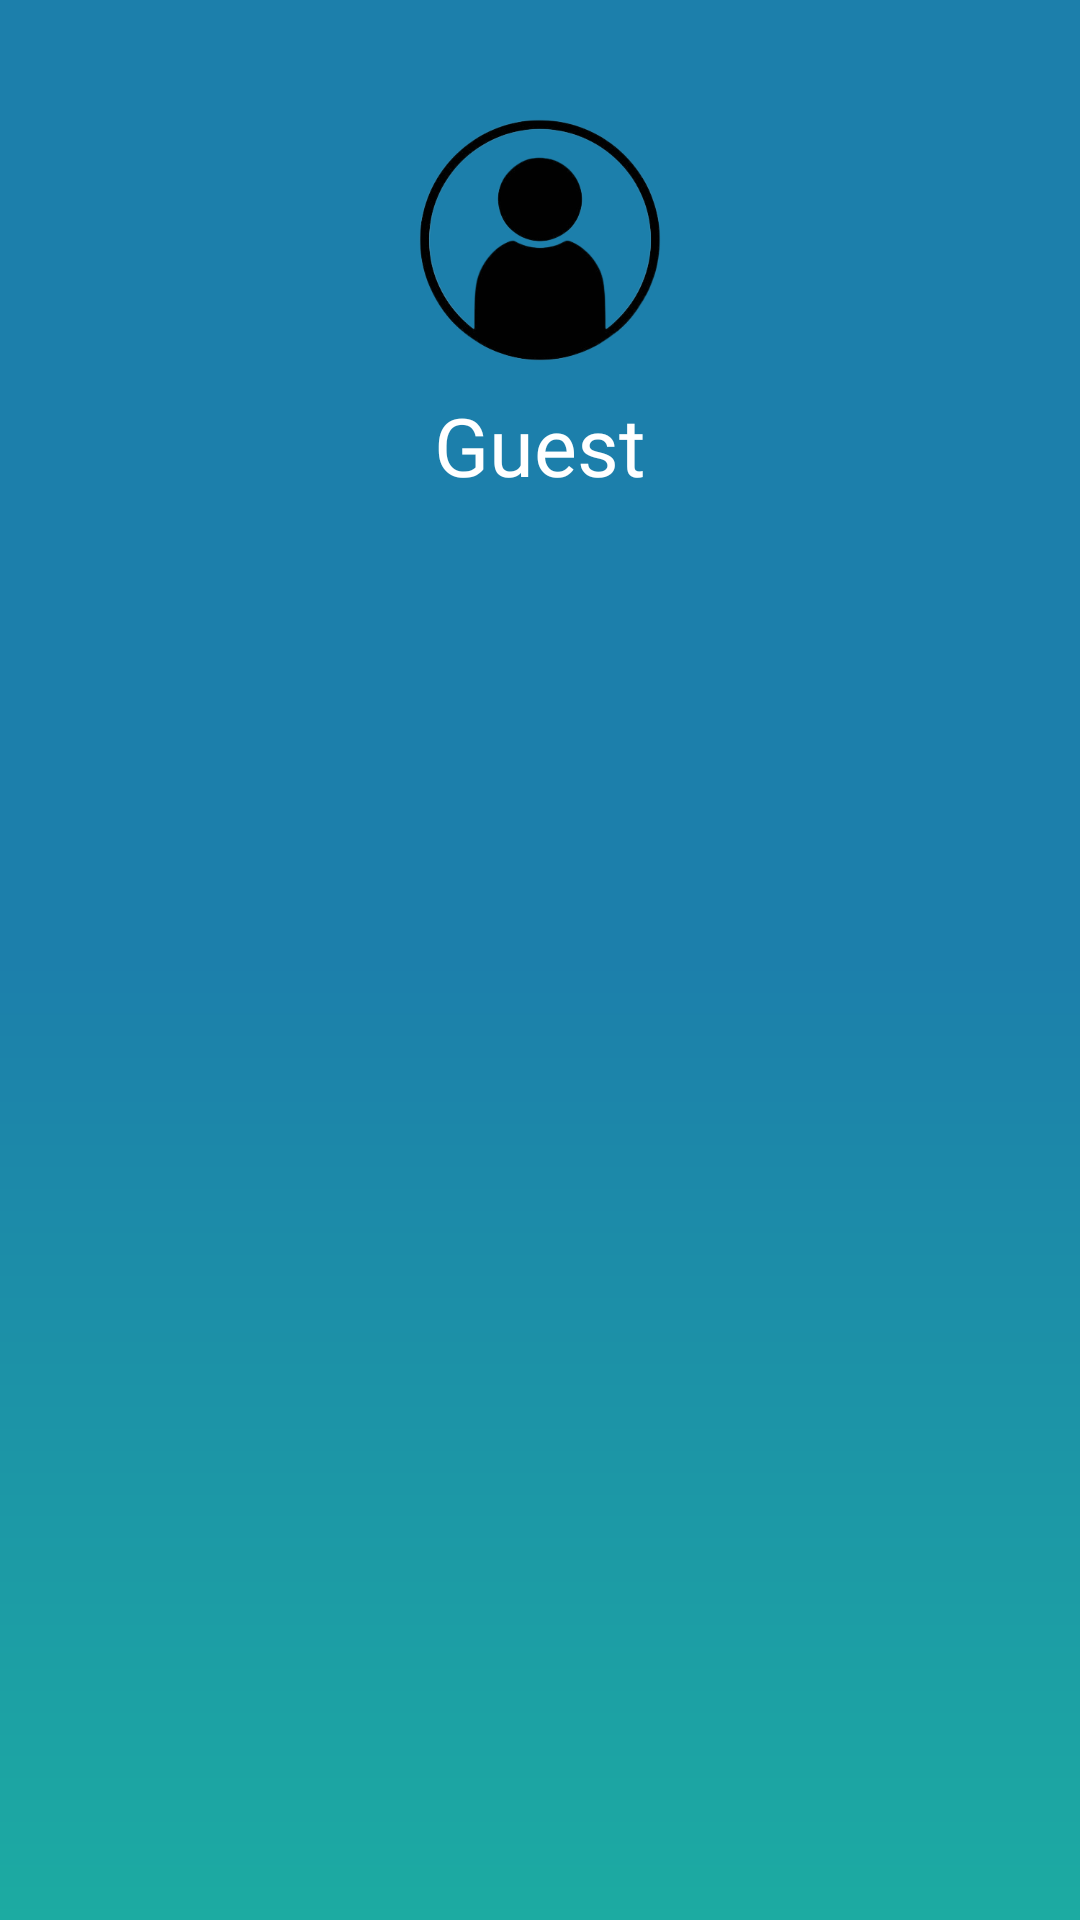

Point at icon controls on the screen. Image size 1080 x 1920, points as (x=x, y=y).
userimage: (x=540, y=240)
